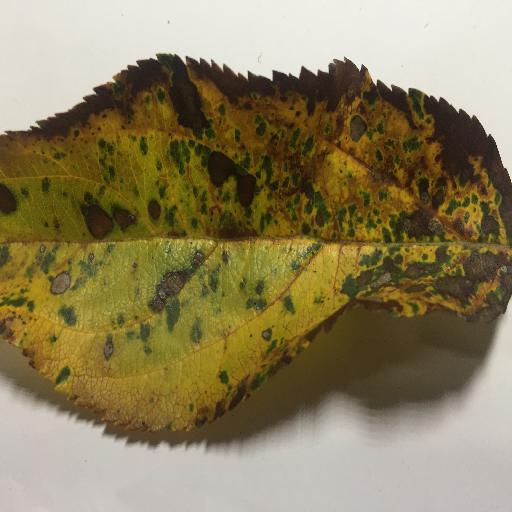Brown_Spot: (1, 48, 512, 451)
